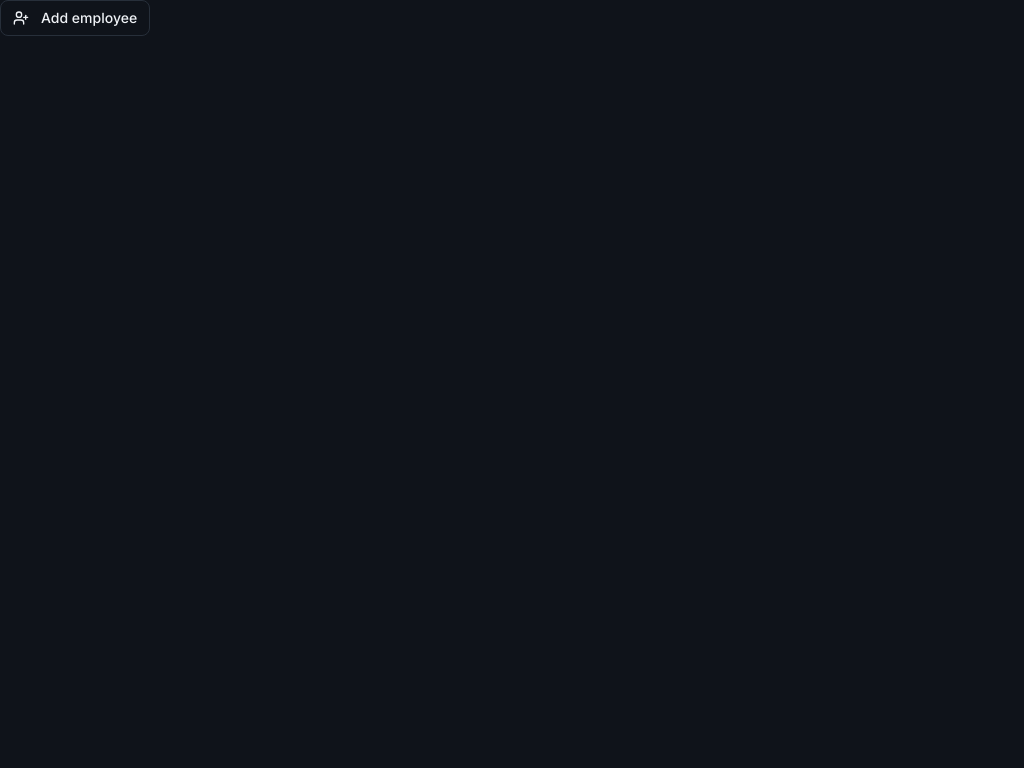
it: AddEmployeeDialog › names who is already on file when the only difference is a connective
Click the button "Add employee" at (75, 18), box [0,0,150,36]
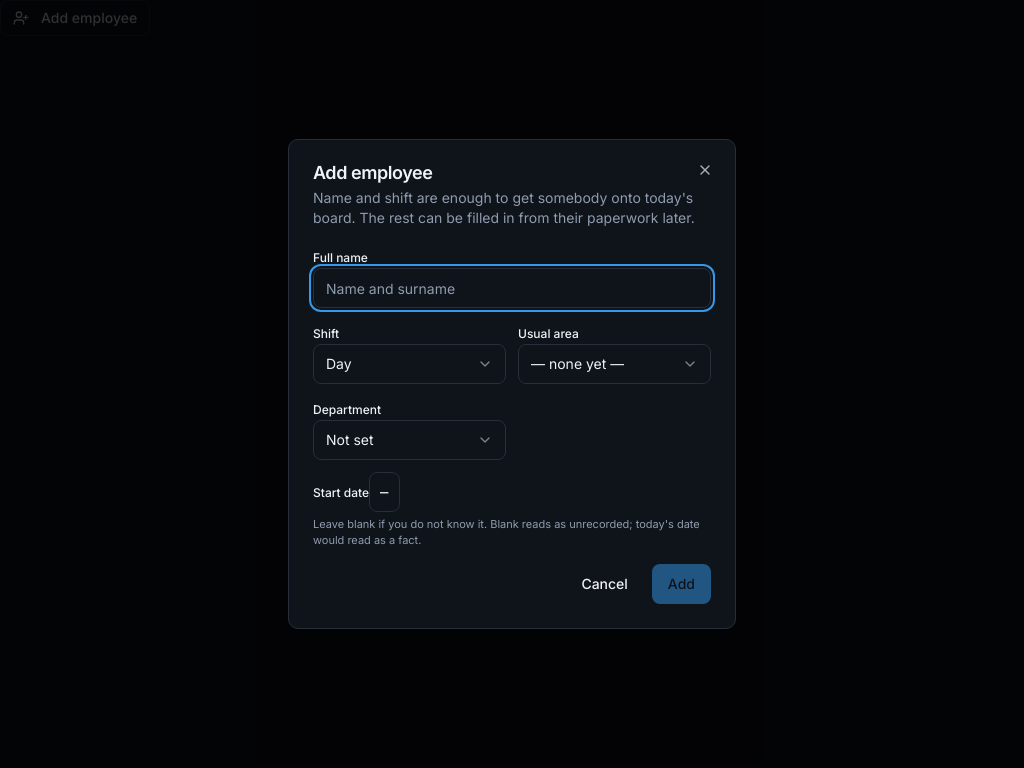
Type "Felipe Araujo" into the field labelled "Full name" at (512, 288), box [313,268,711,308]
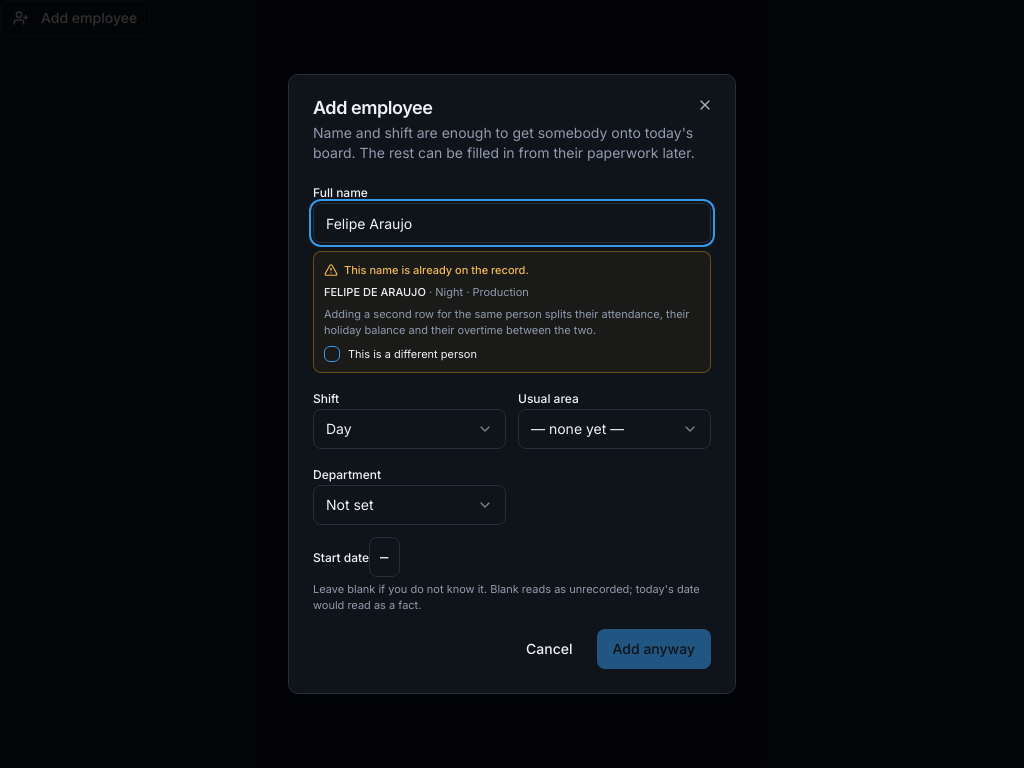
expect the text "This name is already on the record." is shown: met, box [324,263,529,277]
expect the text "FELIPE DE ARAUJO" is shown: met, box [324,285,426,299]
